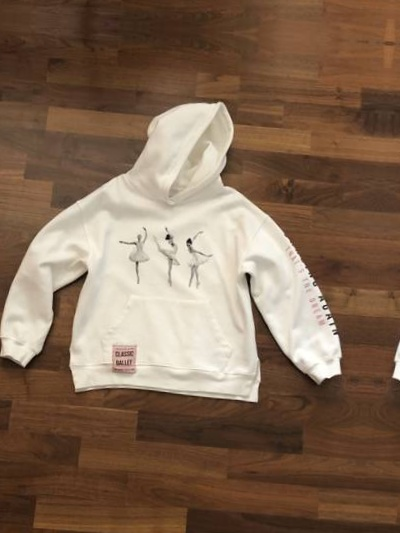Hoodie: (0, 73, 386, 434), (363, 99, 400, 460), (394, 0, 400, 13)
